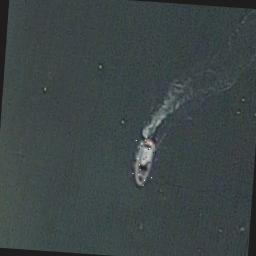boat: (130, 137, 156, 187)
